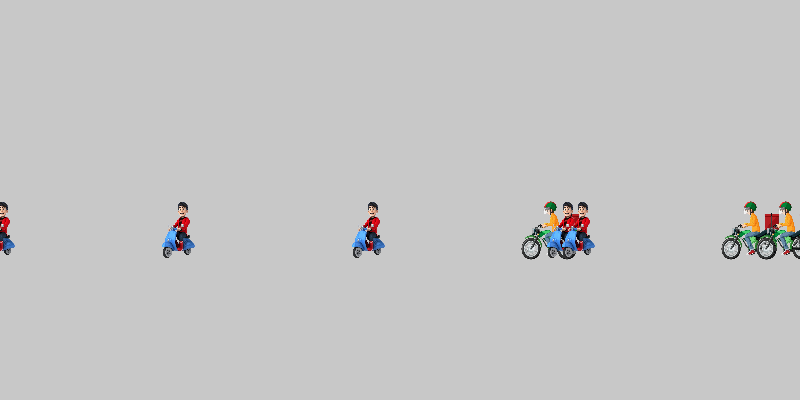helmet: (520, 200, 580, 260), (720, 200, 780, 260), (755, 200, 800, 260)
no_helmet: (150, 200, 210, 260), (340, 200, 400, 260), (535, 200, 595, 260), (550, 200, 610, 260), (0, 200, 30, 260)
